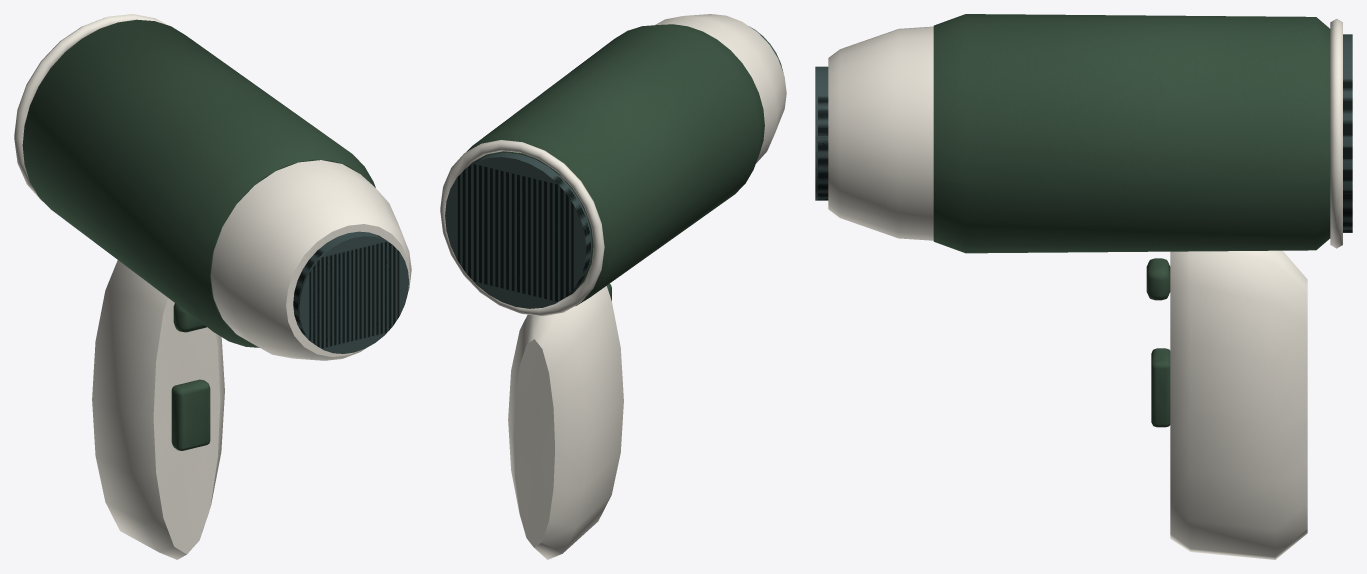
The model's file is Dryer.fbx.
3 renders of one model, left to right at view 1: azimuth 30°, elevation 25°; view 2: azimuth 150°, elevation 25°; view 3: azimuth 270°, elevation 25°, orthographic. The views are drawn at different scales.
Parts seen in each view (by area): view 1: Dryer_Mesh; view 2: Dryer_Mesh; view 3: Dryer_Mesh.
Part boxes in pixels (left/top/right/bottom): Dryer_Mesh: left=14, top=14, right=411, bottom=559; Dryer_Mesh: left=440, top=14, right=786, bottom=559; Dryer_Mesh: left=815, top=14, right=1352, bottom=559.
Bounding box in the file's own units: 0.082 × 0.202 × 0.184.
1 material, 1 textured.
